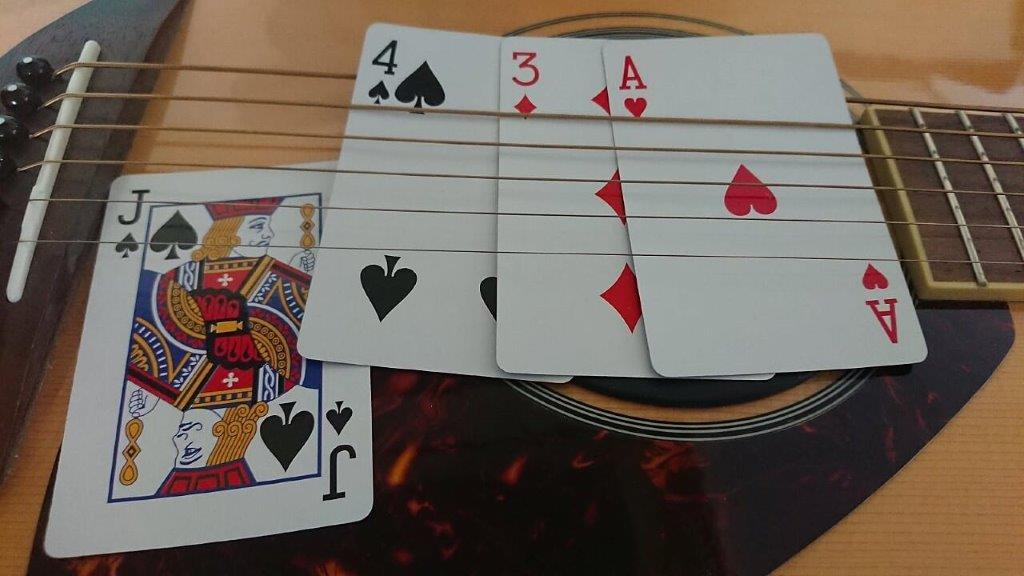3D: (504, 43, 555, 125)
4S: (359, 34, 410, 118)
AH: (610, 47, 658, 128)
JS: (107, 183, 162, 265)
